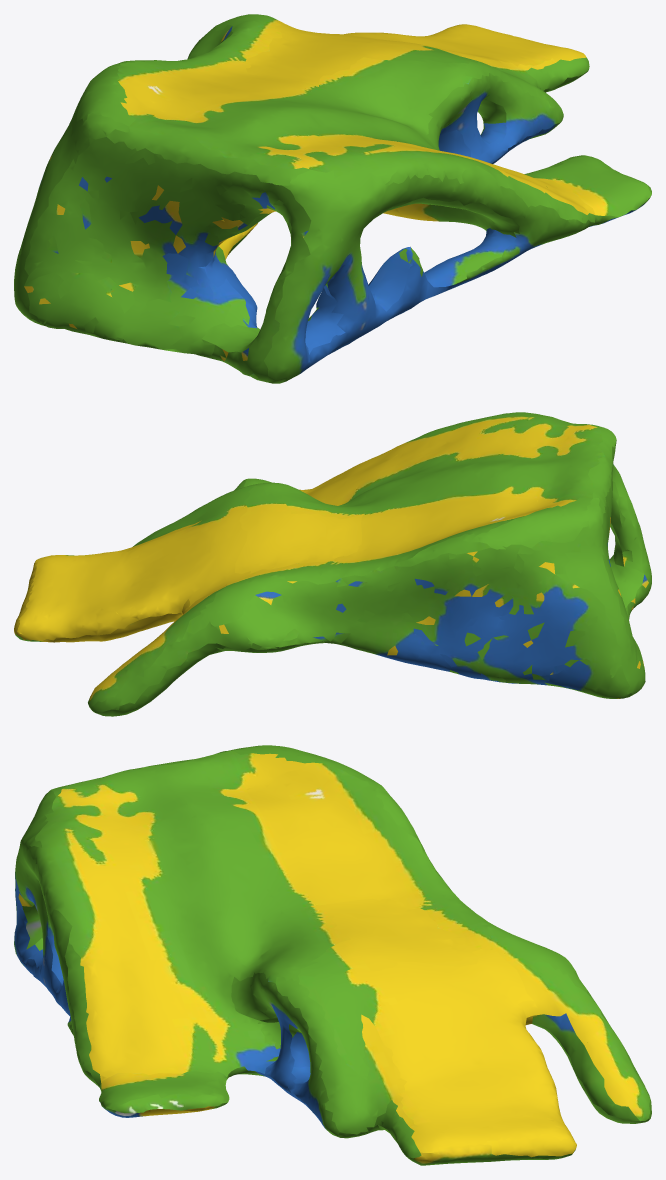
File: wave.glb
3 renders of one model, top to bottom at view 1: azimuth 30°, elevation 25°; view 2: azimuth 150°, elevation 25°; view 3: azimuth 270°, elevation 25°, orthographic. The views are drawn at different scales.
Parts seen in each view (by area): view 1: geometry_0; view 2: geometry_0; view 3: geometry_0.
Boxes of the visible parts, left/top/right/bottom form: geometry_0: left=14, top=14, right=651, bottom=383; geometry_0: left=14, top=412, right=651, bottom=716; geometry_0: left=14, top=745, right=651, bottom=1165.
Size of the model in its own units: 0.897 by 0.2656 by 0.7859.
1 material, 1 textured.
